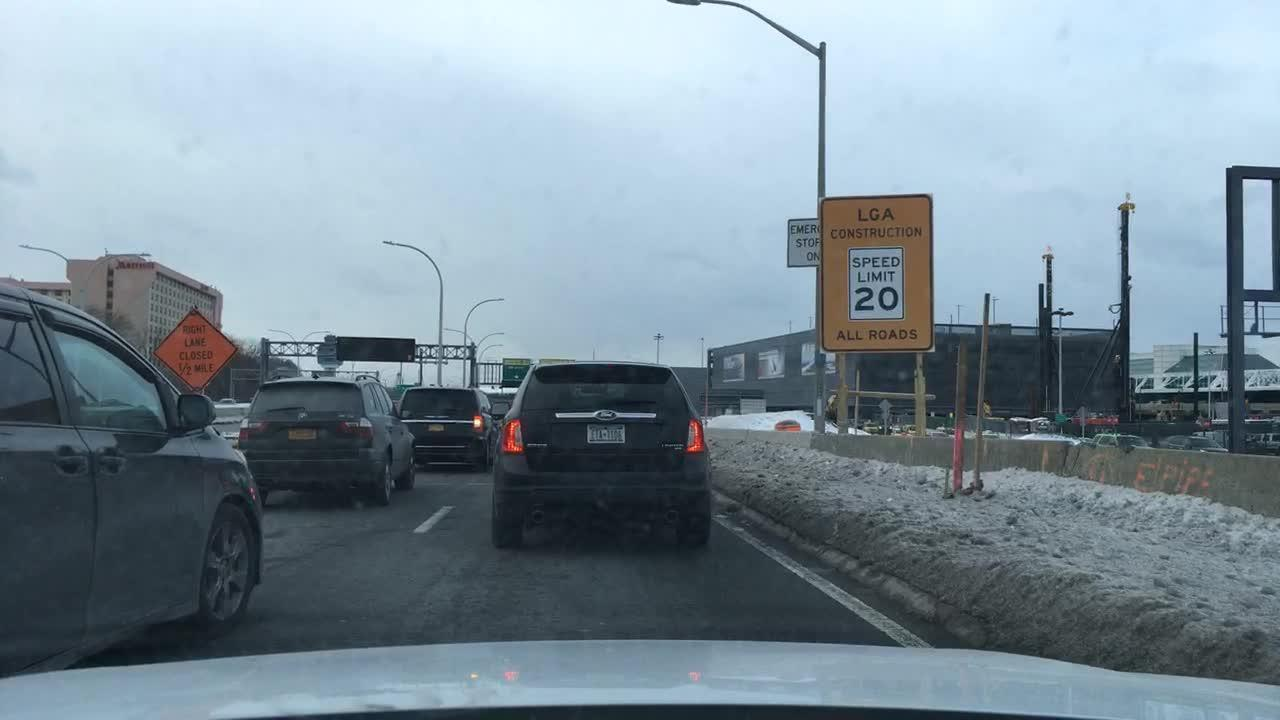Chrysler: (418, 413, 454, 420)
ford: (593, 402, 618, 426)
